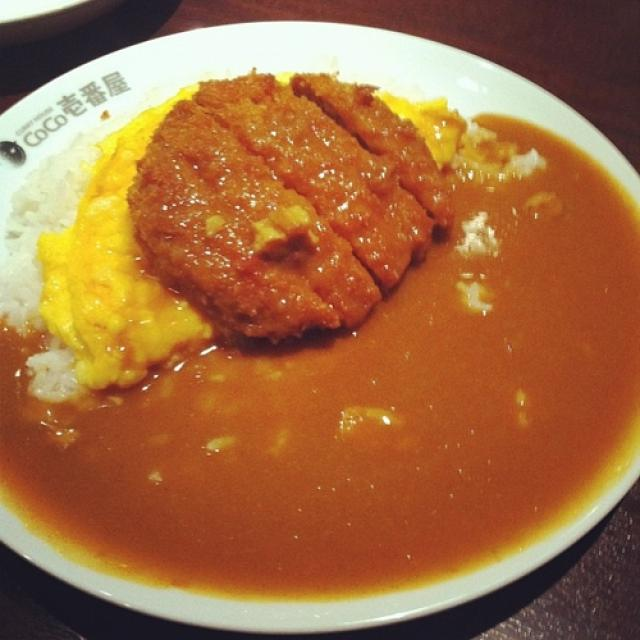炸货点心: (4, 11, 635, 628)
